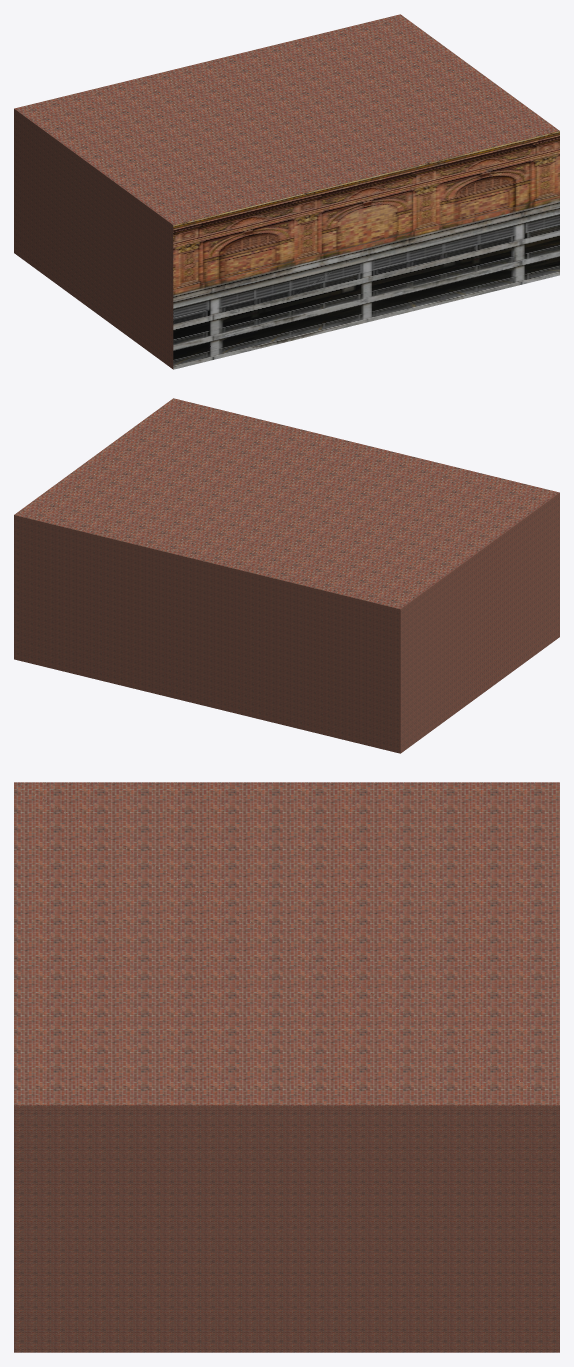
File: grand-theatre-garage_lod0.gltf
3 views of the same model, one above another, from view 1: azimuth 30°, elevation 25°; view 2: azimuth 150°, elevation 25°; view 3: azimuth 270°, elevation 25° (orthographic). The views are drawn at different scales.
Visible parts, largest first — view 1: grand-theatre-garage_main, grand-theatre-garage_front; view 2: grand-theatre-garage_main; view 3: grand-theatre-garage_main.
Boxes of the visible parts, <box> form: grand-theatre-garage_main: <box>14,14,559,369</box>; grand-theatre-garage_front: <box>173,131,559,369</box>; grand-theatre-garage_main: <box>14,398,559,753</box>; grand-theatre-garage_main: <box>14,782,559,1352</box>.
Bounding box in the file's own units: 70 × 25 × 50.
